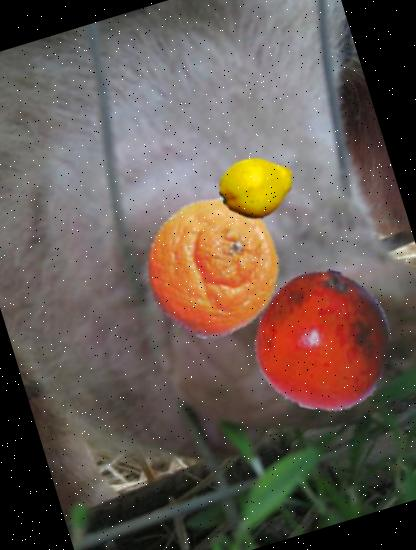Mandarine: (124, 178, 303, 357)
Pomegranate: (236, 252, 412, 428)
Quince: (211, 140, 305, 234)
